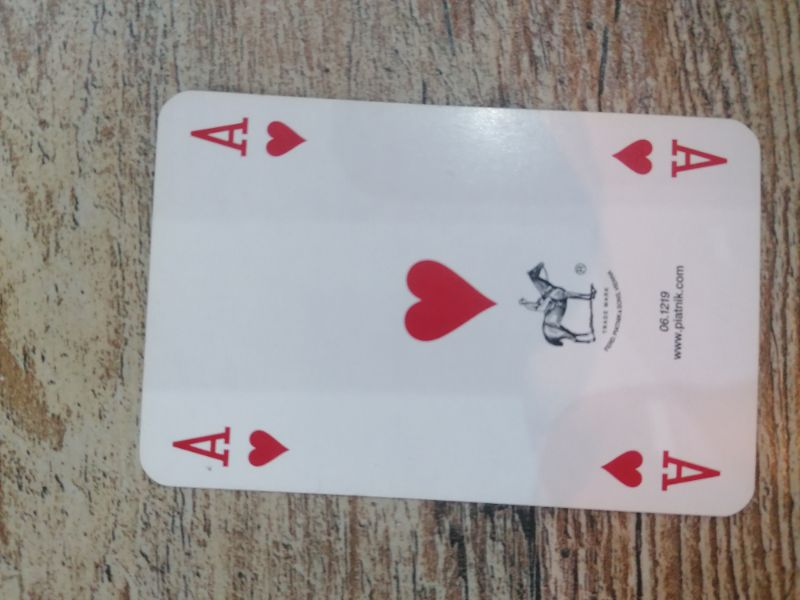Ah: (166, 422, 297, 474), (597, 445, 724, 497), (187, 113, 313, 165), (609, 134, 737, 182)
